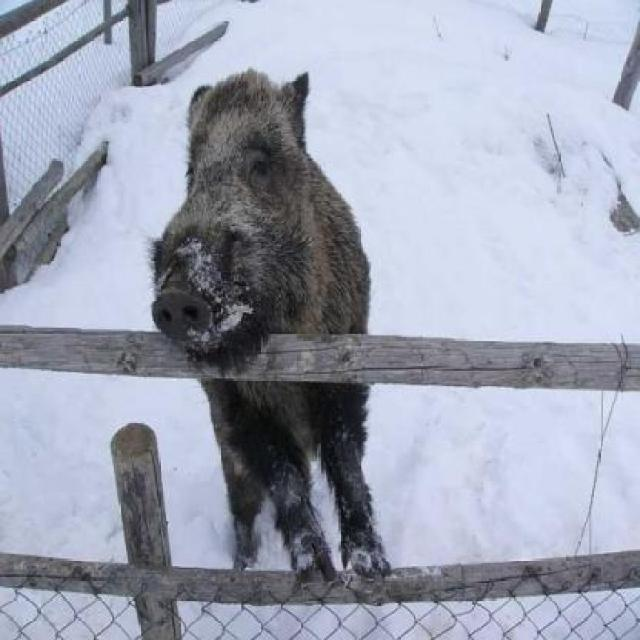pig: (86, 17, 402, 555)
